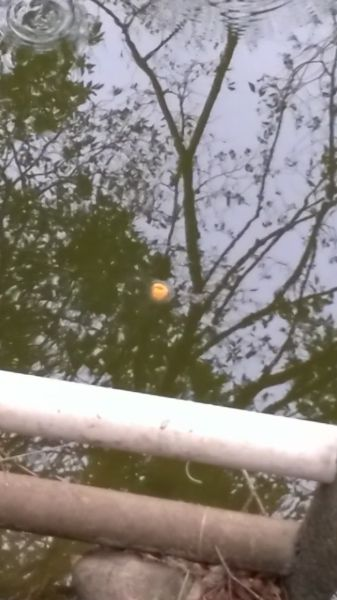eggs: (147, 279, 172, 304)
